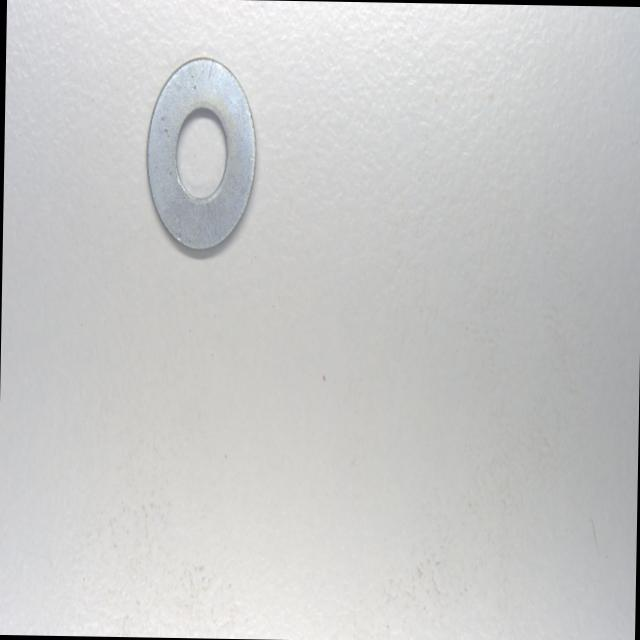washer: (144, 54, 259, 252)
